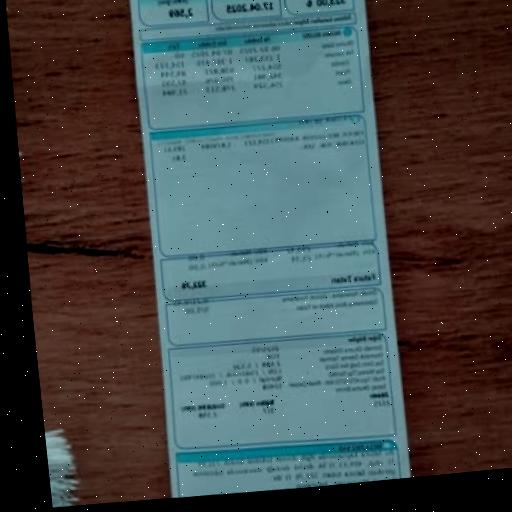electricity-bill: (130, 0, 411, 498)
